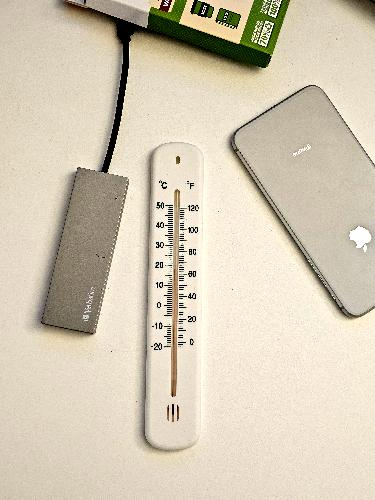thermo: (143, 143, 209, 444)
